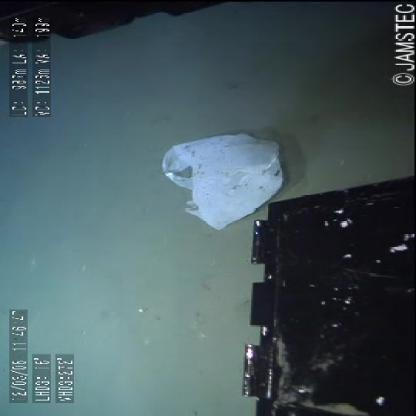Rác: (145, 119, 293, 233)
